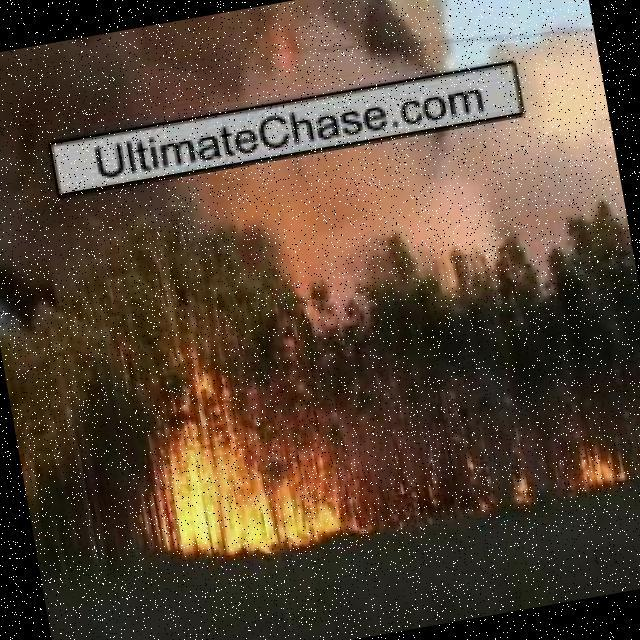Fire: (136, 388, 366, 571), (468, 448, 538, 515), (569, 439, 633, 492)
